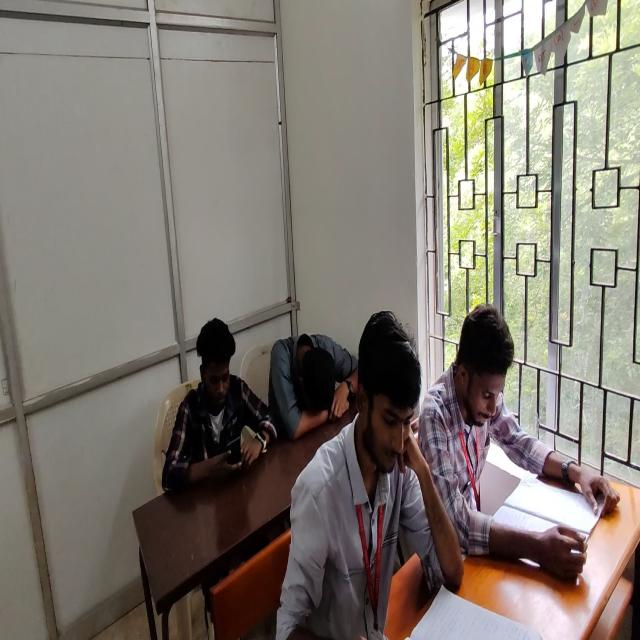reading: (277, 314, 453, 640), (424, 304, 623, 580)
sleeping: (270, 331, 356, 443)
using_mobile: (162, 311, 281, 492)
